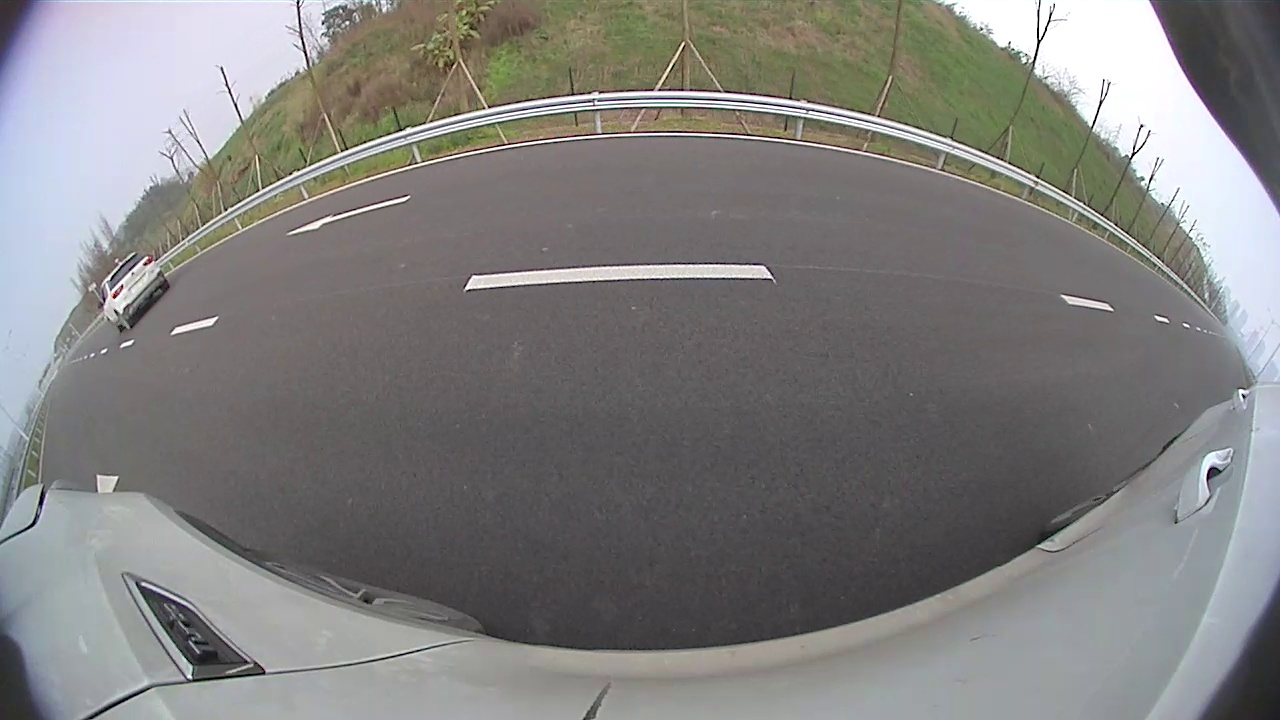car: (99, 250, 170, 333)
rear: (115, 309, 131, 332)
